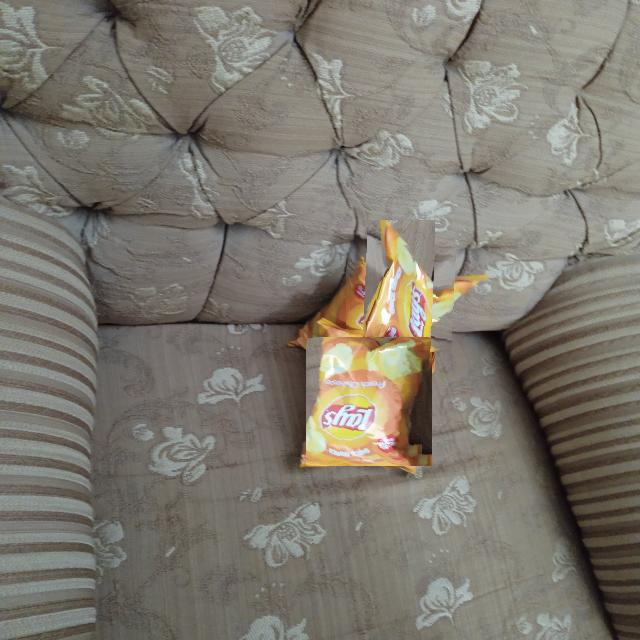Plastic: (306, 337, 432, 466), (346, 240, 456, 352)
